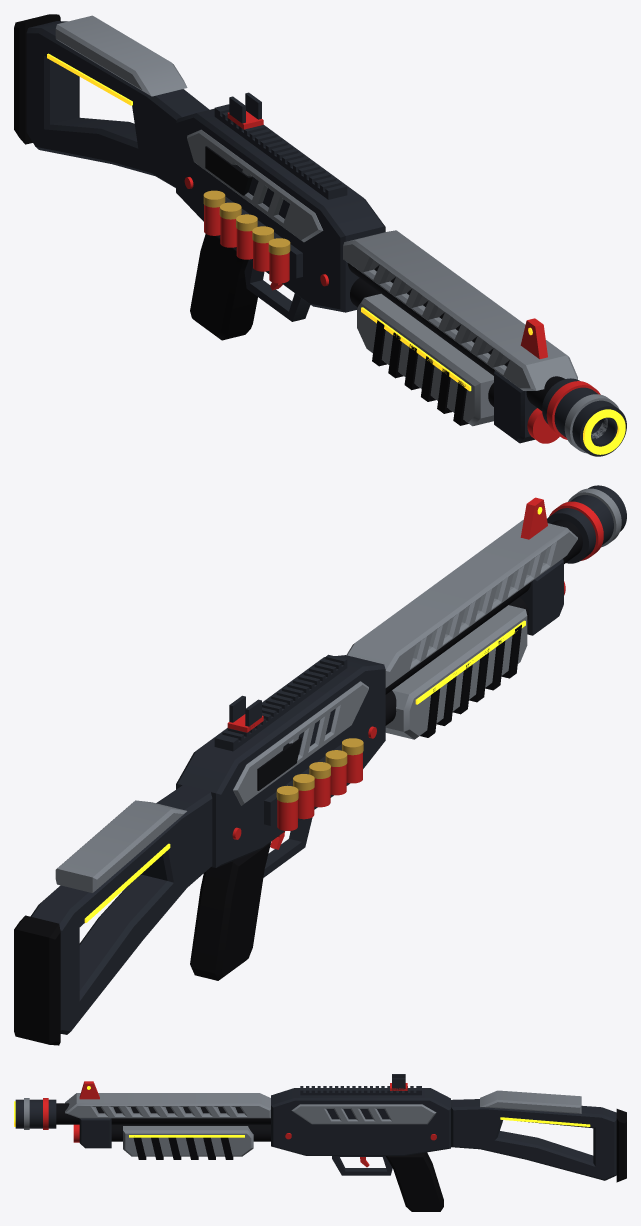
The model's file is Shotgun_HR12_Breaker.glb.
The picture shows the model from 3 angles, top to bottom: view 1: azimuth 30°, elevation 25°; view 2: azimuth 150°, elevation 25°; view 3: azimuth 270°, elevation 25°; orthographic projection. The views are drawn at different scales.
Parts seen in each view (by area): view 1: stock, receiver, heat_shield, pump, grip, cheek_rest, receiver_panel, top_rail, muzzle_brake, barrel_clamp, butt_pad, barrel (+9 smaller); view 2: stock, receiver, heat_shield, grip, pump, butt_pad, cheek_rest, receiver_panel, top_rail, muzzle_brake, barrel_clamp, barrel (+3 smaller); view 3: receiver, stock, heat_shield, pump, receiver_panel, grip, barrel, cheek_rest, top_rail, barrel_clamp, muzzle_brake, mag_tube (+5 smaller).
Boxes of the visible parts, bbox=[...] form: stock: bbox=[26, 21, 209, 187]; receiver: bbox=[176, 108, 385, 312]; heat_shield: bbox=[343, 230, 577, 390]; pump: bbox=[357, 293, 493, 426]; grip: bbox=[190, 234, 257, 340]; cheek_rest: bbox=[55, 15, 187, 96]; receiver_panel: bbox=[187, 129, 323, 242]; top_rail: bbox=[214, 104, 347, 199]; muzzle_brake: bbox=[542, 378, 626, 456]; barrel_clamp: bbox=[494, 370, 536, 443]; butt_pad: bbox=[14, 14, 60, 144]; barrel: bbox=[347, 263, 564, 410]; stock: bbox=[30, 785, 212, 1034]; receiver: bbox=[176, 655, 385, 867]; heat_shield: bbox=[346, 519, 577, 687]; grip: bbox=[190, 842, 270, 980]; pump: bbox=[385, 605, 527, 739]; butt_pad: bbox=[14, 915, 60, 1045]; cheek_rest: bbox=[55, 800, 186, 892]; receiver_panel: bbox=[233, 681, 368, 805]; top_rail: bbox=[214, 654, 347, 751]; muzzle_brake: bbox=[547, 485, 626, 563]; barrel_clamp: bbox=[519, 559, 563, 635]; barrel: bbox=[385, 519, 582, 694]; receiver: bbox=[271, 1088, 450, 1155]; stock: bbox=[451, 1099, 616, 1180]; heat_shield: bbox=[65, 1093, 270, 1118]; pump: bbox=[123, 1126, 253, 1156]; receiver_panel: bbox=[291, 1104, 436, 1124]; grip: bbox=[386, 1152, 443, 1211]; barrel: bbox=[56, 1103, 270, 1124]; cheek_rest: bbox=[480, 1090, 581, 1113]; top_rail: bbox=[300, 1086, 421, 1095]; barrel_clamp: bbox=[79, 1118, 111, 1148]; muzzle_brake: bbox=[15, 1099, 56, 1128]; mag_tube: bbox=[111, 1124, 270, 1141].
Size of the model in its own units: 0.079 by 0.251 by 1.06.
